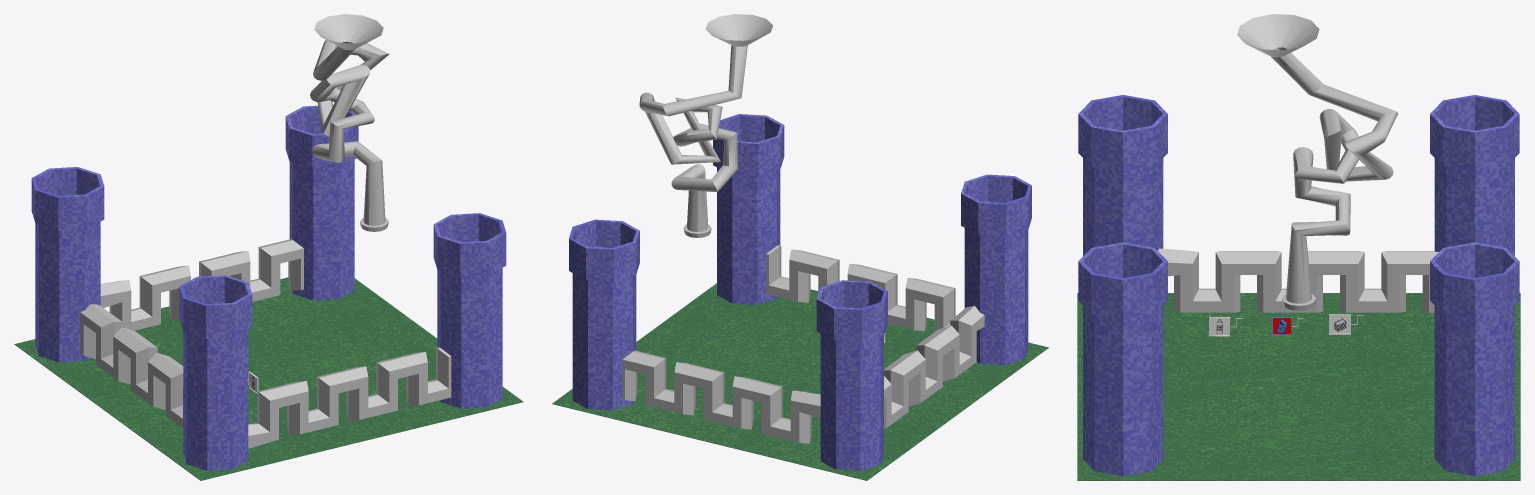
3 renders of one model, left to right at view 1: azimuth 30°, elevation 25°; view 2: azimuth 150°, elevation 25°; view 3: azimuth 270°, elevation 25°, orthographic. The views are drawn at different scales.
Parts seen in each view (by area): view 1: boundary, FloorBaseGrass_01, Plane.003, Circle.001; view 2: boundary, FloorBaseGrass_01, Plane.003, Circle.001; view 3: boundary, FloorBaseGrass_01, Circle.001, Plane.003.
Part boxes in pixels (bbox=[...]): boundary: bbox=[31, 105, 506, 470]; FloorBaseGrass_01: bbox=[14, 277, 523, 480]; Plane.003: bbox=[80, 239, 451, 448]; Circle.001: bbox=[310, 14, 389, 231]; boundary: bbox=[569, 114, 1031, 470]; FloorBaseGrass_01: bbox=[552, 283, 1048, 480]; Plane.003: bbox=[622, 245, 984, 443]; Circle.001: bbox=[639, 14, 772, 237]; boundary: bbox=[1078, 95, 1519, 476]; FloorBaseGrass_01: bbox=[1077, 293, 1520, 480]; Circle.001: bbox=[1237, 14, 1397, 310]; Plane.003: bbox=[1158, 248, 1438, 312].
Size of what is drawn, in the model's own units: 16 by 15.83 by 16.
Materials: 7 (5 with a texture image).
